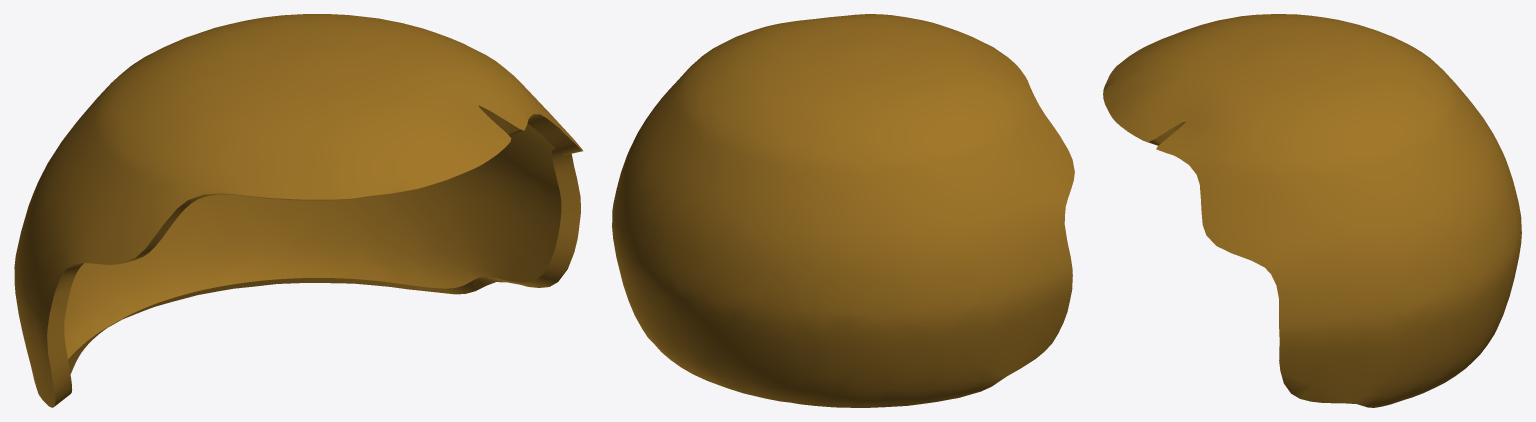
File: low cut hair with path.fbx
The picture shows the model from 3 angles, left to right: view 1: azimuth 30°, elevation 25°; view 2: azimuth 150°, elevation 25°; view 3: azimuth 270°, elevation 25°; orthographic projection. The views are drawn at different scales.
Parts seen in each view (by area): view 1: MIDE_1_Sphere_1; view 2: MIDE_1_Sphere_1; view 3: MIDE_1_Sphere_1.
Part boxes in pixels (left/top/right/bottom): MIDE_1_Sphere_1: left=14, top=14, right=582, bottom=407; MIDE_1_Sphere_1: left=612, top=14, right=1074, bottom=407; MIDE_1_Sphere_1: left=1103, top=14, right=1521, bottom=407.
Size of the model in its own units: 31.64 by 18.93 by 25.97.
